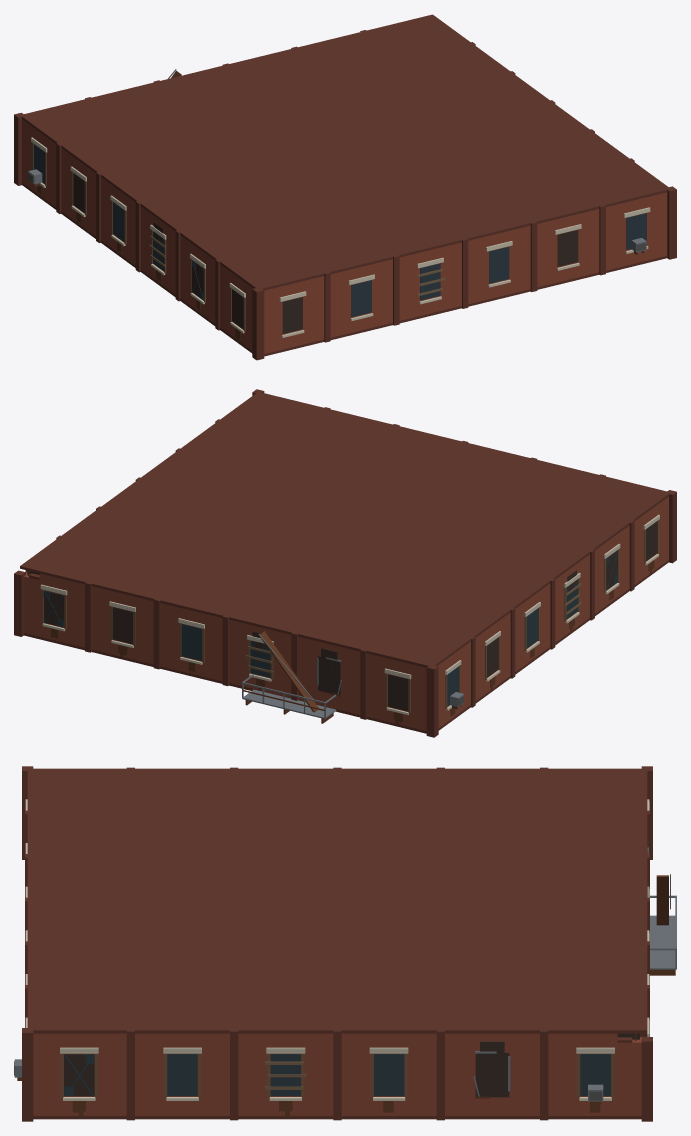
Rendered from tw_brick_24_floor_c.glb.
3 renders of one model, top to bottom at view 1: azimuth 30°, elevation 25°; view 2: azimuth 150°, elevation 25°; view 3: azimuth 270°, elevation 25°, orthographic. The views are drawn at different scales.
Visible parts, largest first — view 1: tw_brick_24_floor_c; view 2: tw_brick_24_floor_c; view 3: tw_brick_24_floor_c.
Boxes of the visible parts, x1,y1,x2,y2 form: tw_brick_24_floor_c: (14,14,676,360); tw_brick_24_floor_c: (14,389,676,737); tw_brick_24_floor_c: (14,766,676,1121).
Size of what is drawn, in the model's own units: 25.06 by 4.07 by 25.68.
Materials: 2 (2 with a texture image).
